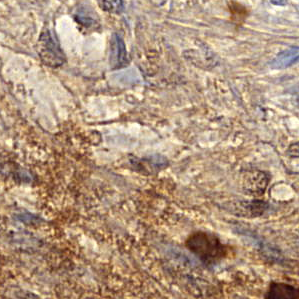Lymphocyte: (185, 228, 234, 266)
